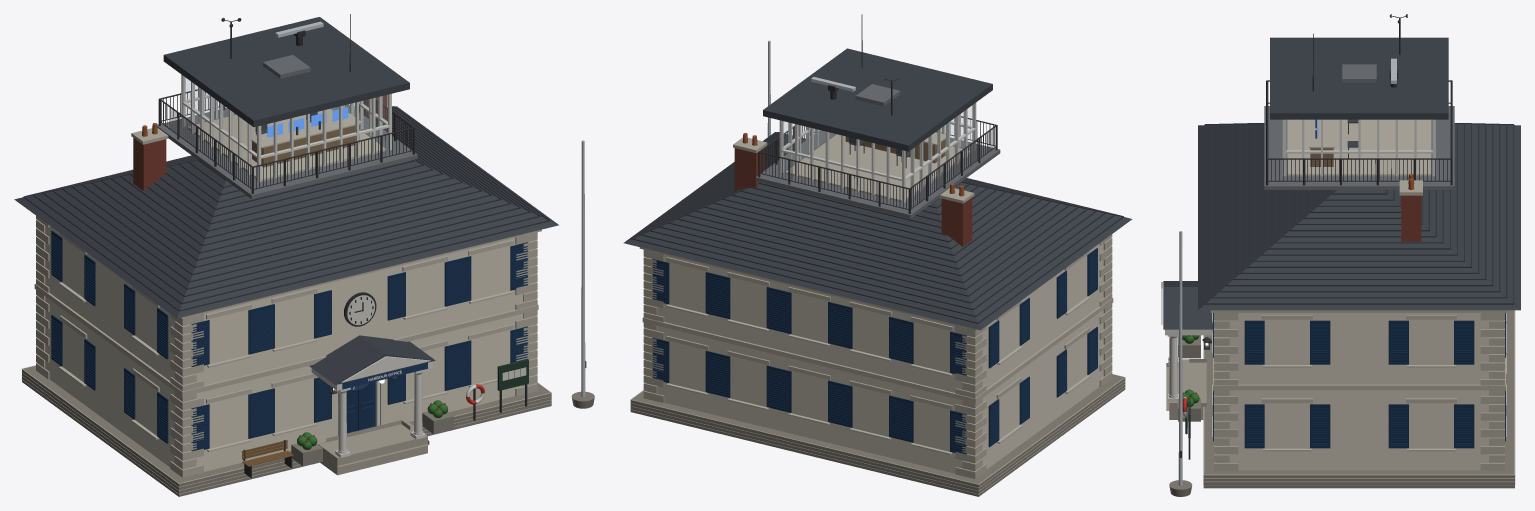
File: harbourmaster.glb
The picture shows the model from 3 angles, left to right: view 1: azimuth 30°, elevation 25°; view 2: azimuth 150°, elevation 25°; view 3: azimuth 270°, elevation 25°; orthographic projection. The views are drawn at different scales.
Parts seen in each view (by area): view 1: plinth_stone_m, lantern_metal_m, window_glass_m; view 2: plinth_stone_m, lantern_metal_m, window_glass_m; view 3: plinth_stone_m, lantern_metal_m.
Part boxes in pixels (x1,y1,x2,y2): plinth_stone_m: [14, 17, 594, 496]; lantern_metal_m: [158, 14, 586, 477]; window_glass_m: [185, 78, 387, 148]; plinth_stone_m: [623, 48, 1132, 496]; lantern_metal_m: [758, 14, 997, 213]; window_glass_m: [783, 105, 972, 171]; plinth_stone_m: [1161, 37, 1520, 496]; lantern_metal_m: [1178, 14, 1452, 485].
Bounding box in the file's own units: 16.2 × 14.7 × 12.48.
7 materials, 1 textured.
